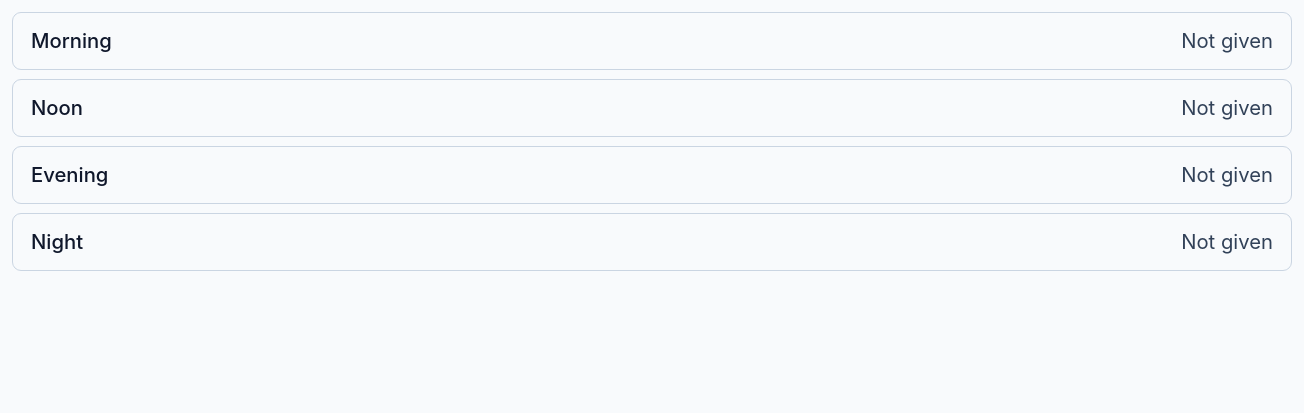
Test: DoseTimeList freeText variant (non-tablet forms) › appends the pluralised unit word to the read-out when freeUnit is set
Step 1. Click the button "Morning Not given" → click(71, 41), box left=13, top=13, right=1291, bottom=69
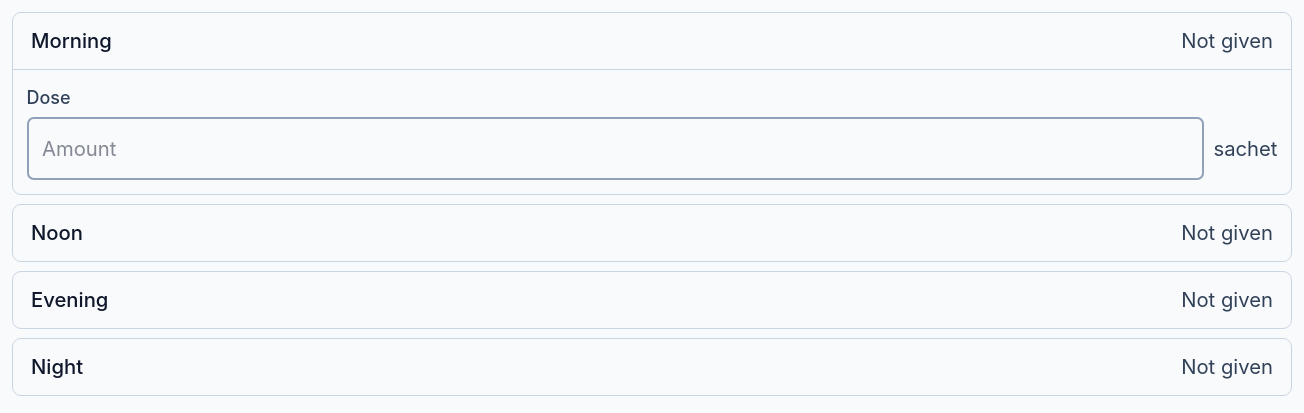
Step 2. Type "2" into the field named "Morning: dose" → (616, 149), box left=26, top=117, right=1204, bottom=180
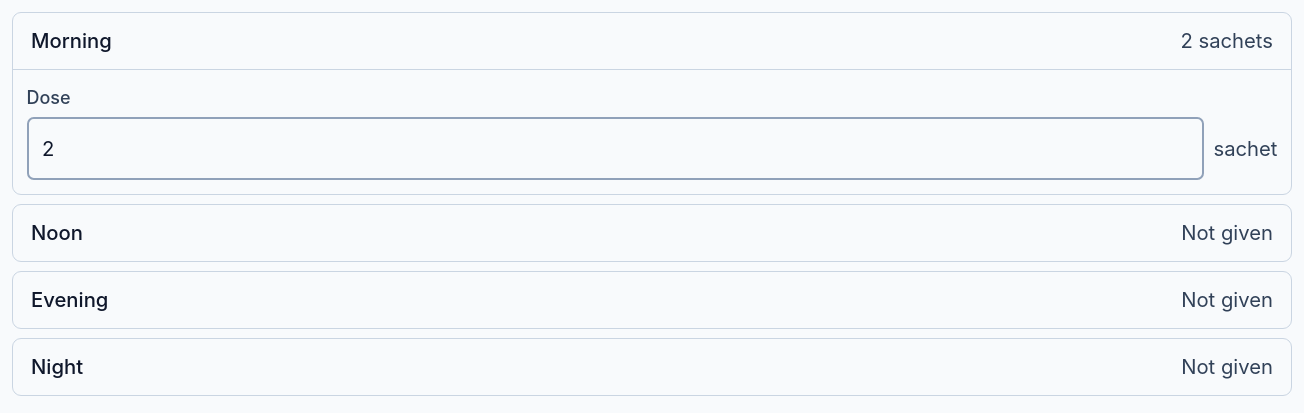
Expected: the button with aria-label "Morning, 2 sachets" is shown, left=13, top=13, right=1291, bottom=69
Step 3. Replace the text in the field named "Morning: dose" with "1" → (616, 149), box left=26, top=117, right=1204, bottom=180
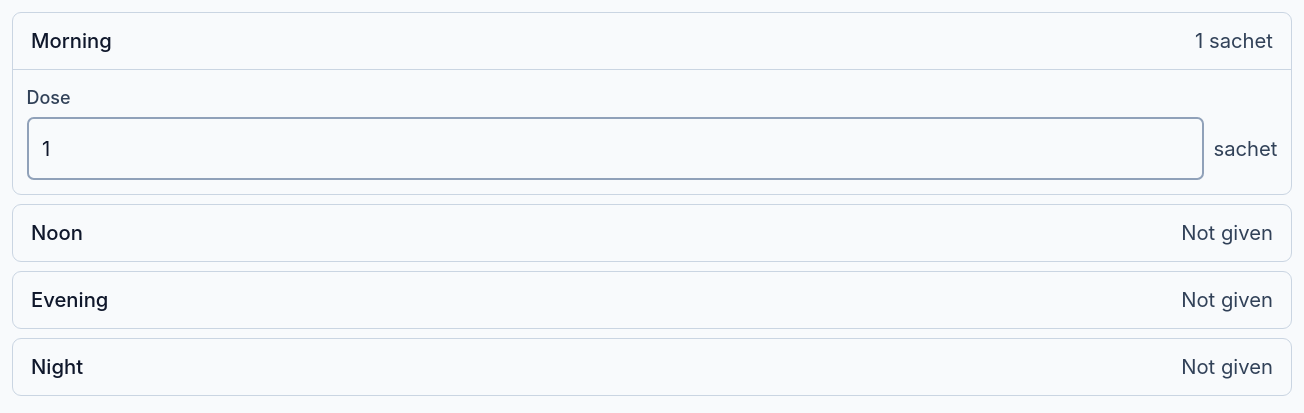
Expected: the button with aria-label "Morning, 1 sachet" is shown, left=13, top=13, right=1291, bottom=69
Step 4. Replace the text in the field named "Morning: dose" with "0.5" → (616, 149), box left=26, top=117, right=1204, bottom=180
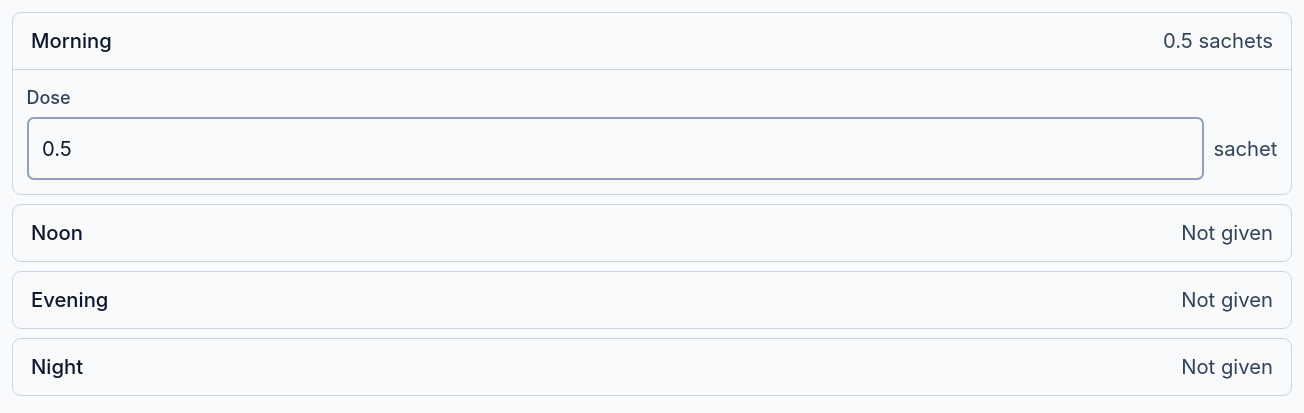
Expected: the button with aria-label "Morning, 0.5 sachets" is shown, left=13, top=13, right=1291, bottom=69
